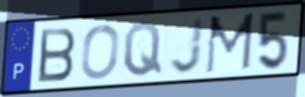5: (256, 8, 290, 72)
B: (36, 26, 78, 85)
J: (168, 15, 206, 76)
M: (203, 11, 257, 76)
O: (79, 23, 121, 81)
Q: (122, 20, 164, 79)
